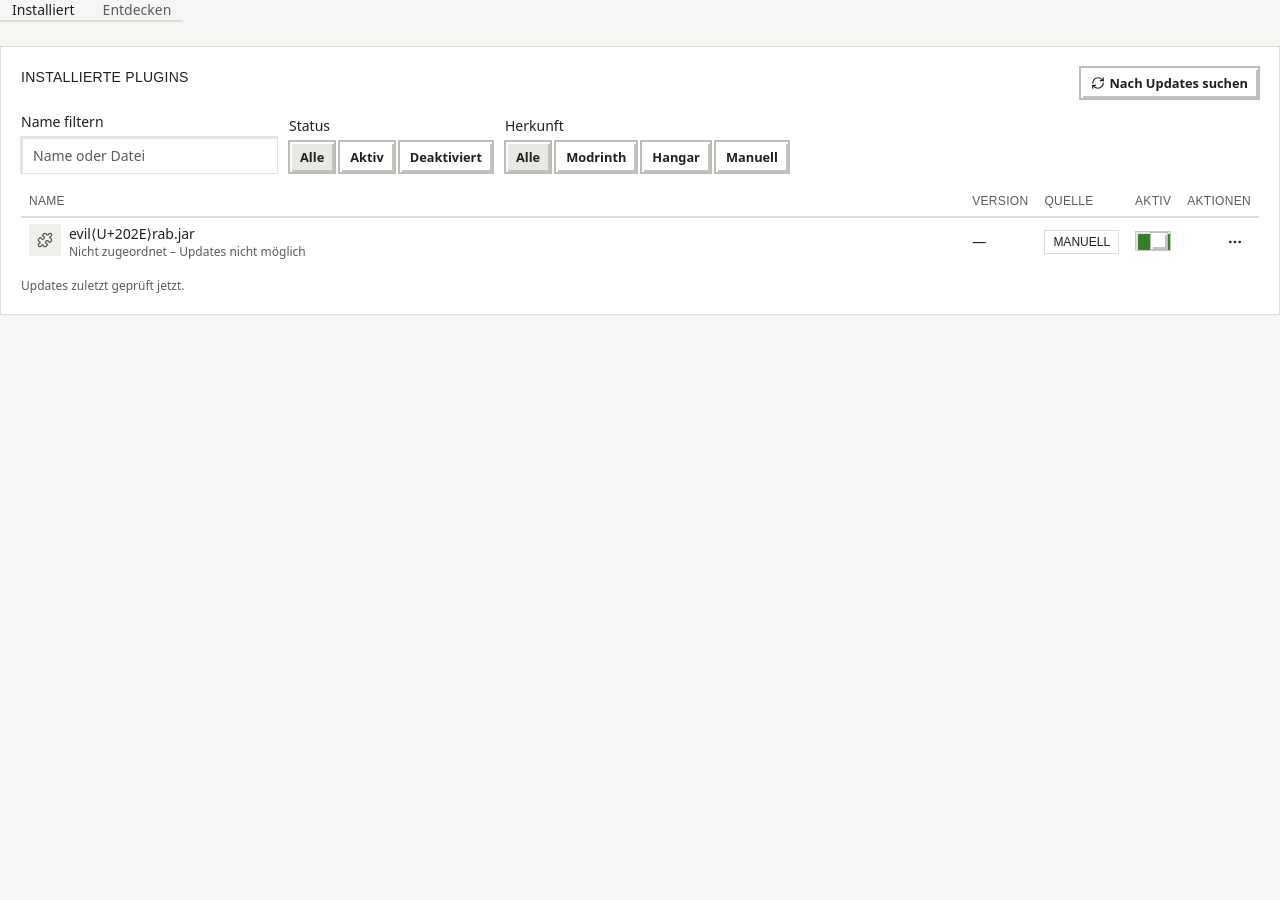
Test: PluginsTab – installed › shows format characters in jar names, labels and the removal dialog (SEC-38)
Check: the text "evil⟨U+202E⟩rab.jar" is shown, box [69,224,195,243]
Check: the switch named "evil⟨U+202E⟩rab.jar aktiv" is shown, box [1135,230,1171,250]
Click the button named "Aktionen für evil⟨U+202E⟩rab.jar".
click(1235, 242)  # box [1219,226,1251,258]
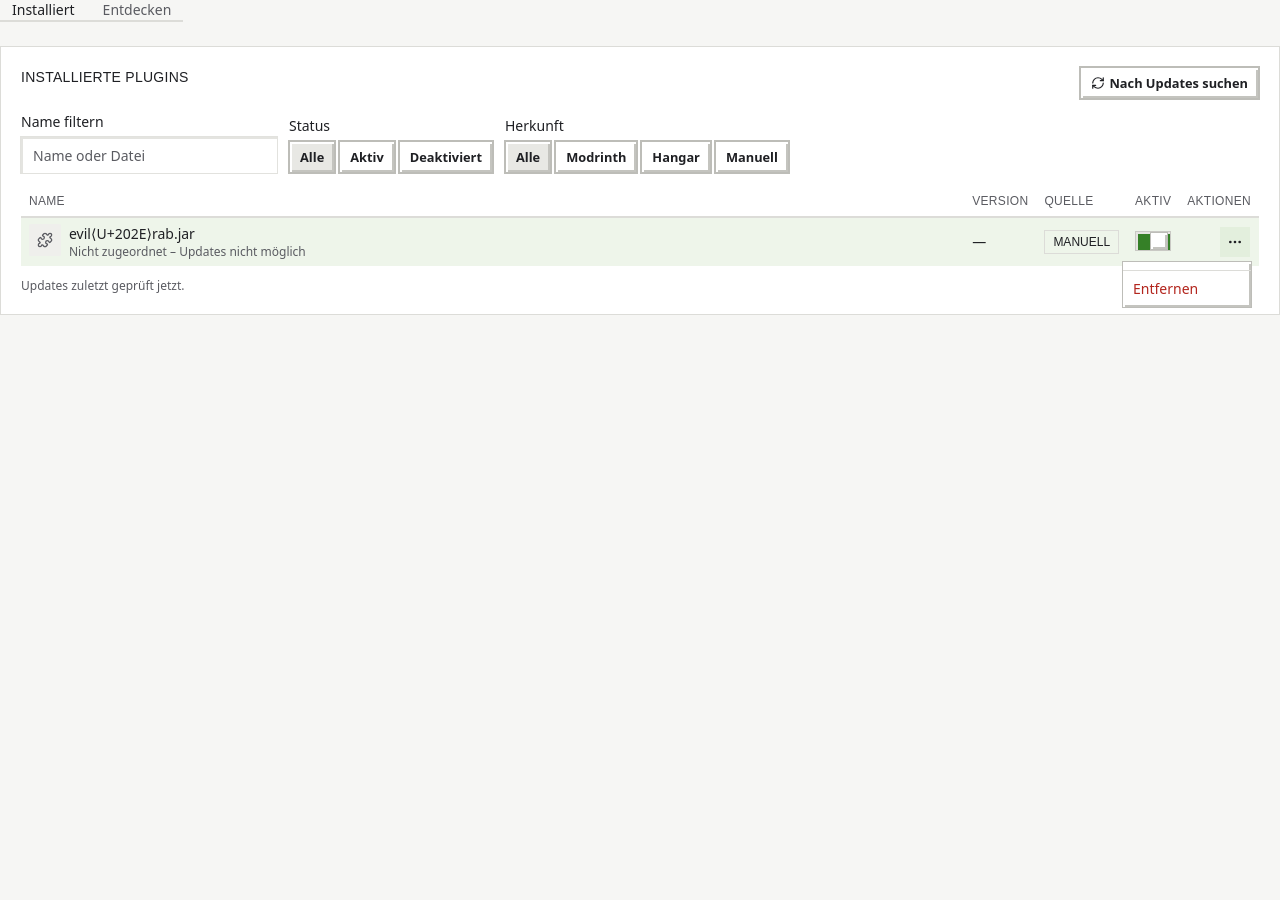
Click the menu item "Entfernen".
click(1166, 288)  # box [1133,279,1198,298]
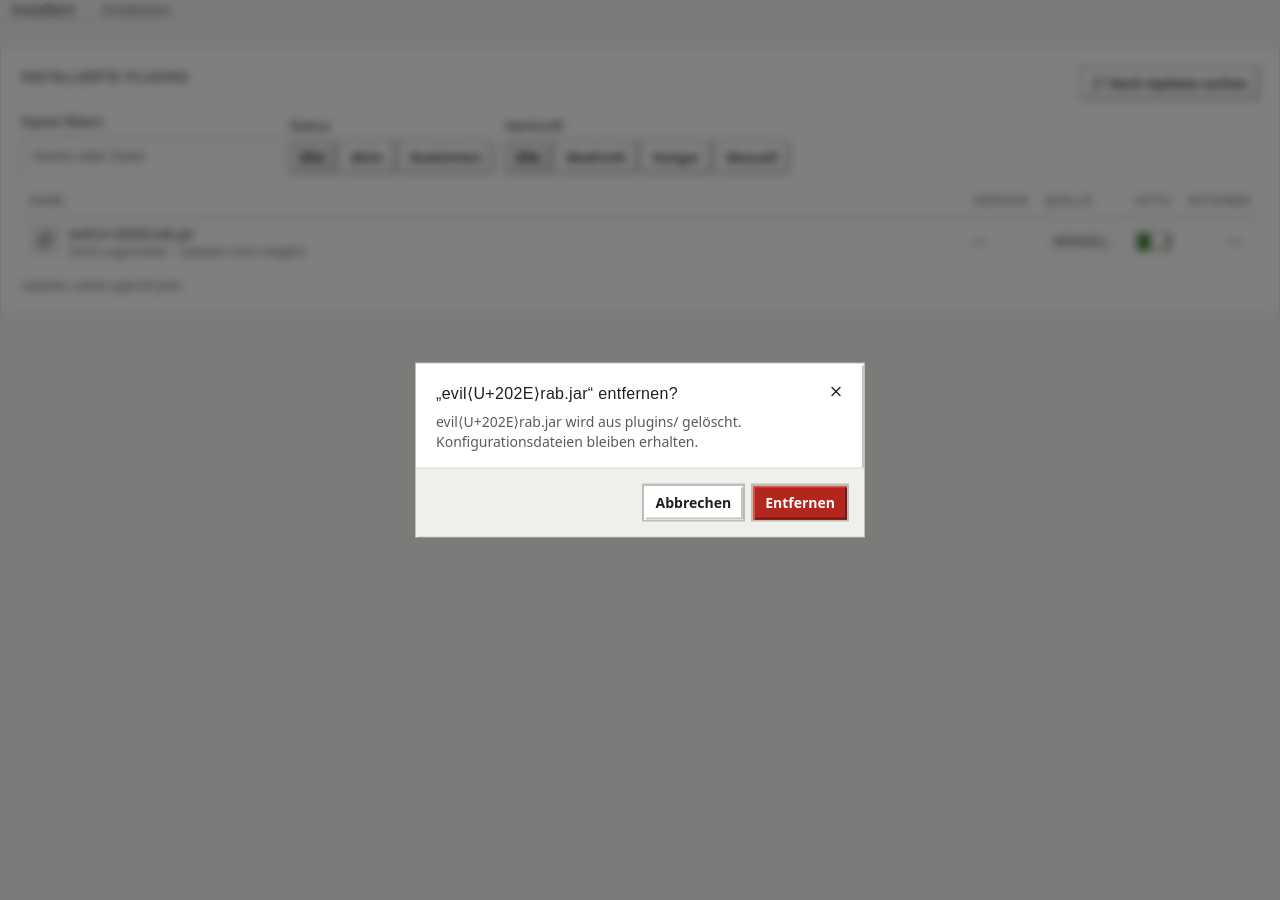
Check: the text "evil⟨U+202E⟩rab.jar wird aus plugins/ gelöscht" is shown, box [436,412,742,450]
